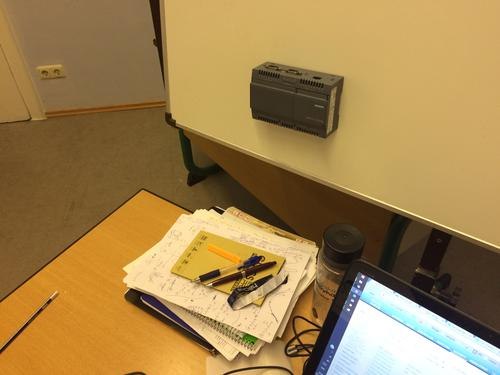iot2000: (249, 60, 344, 139)
